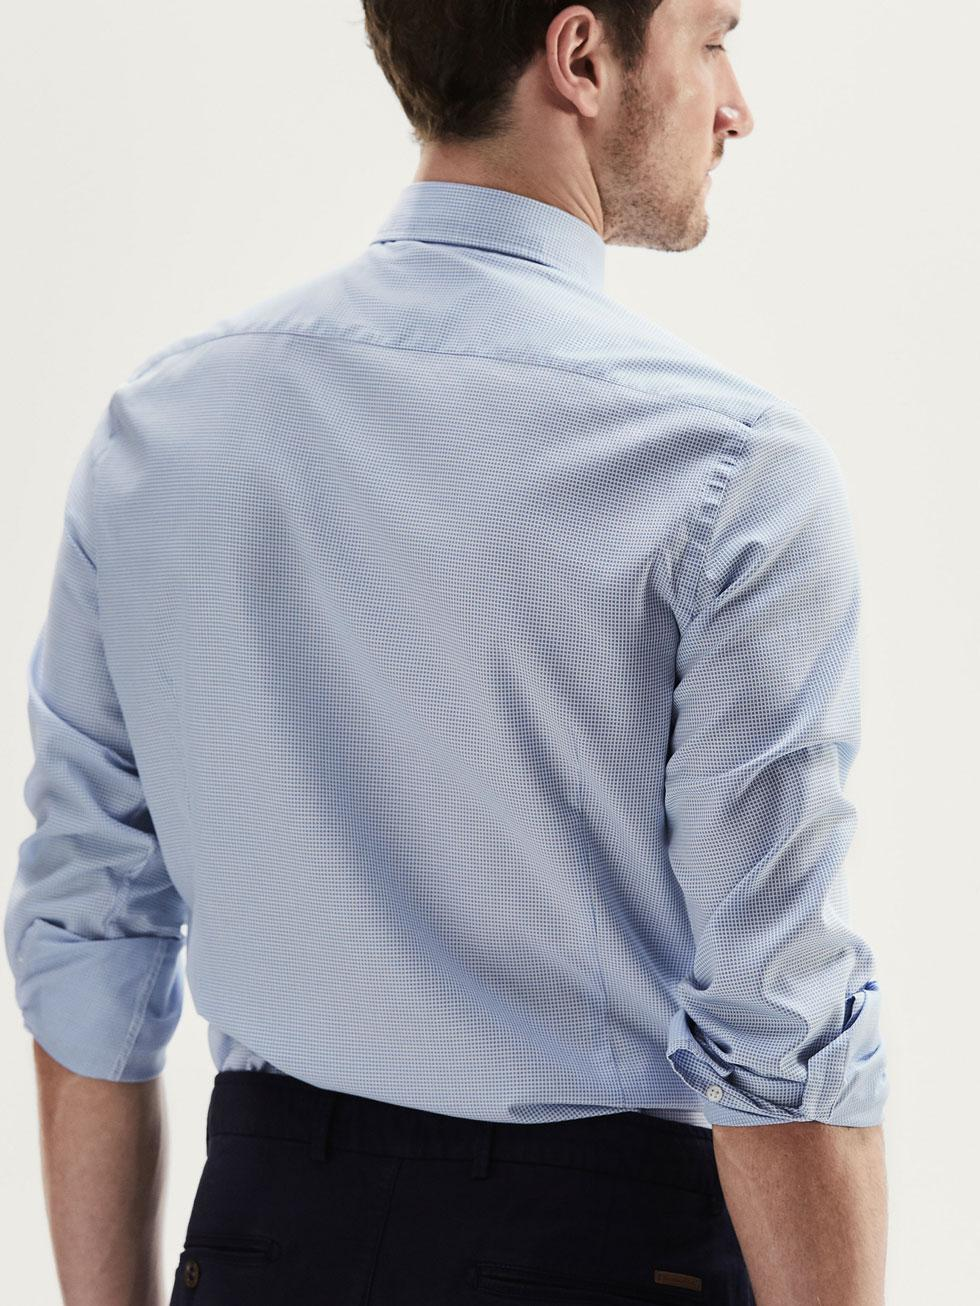teeshirt: (65, 179, 892, 1157)
